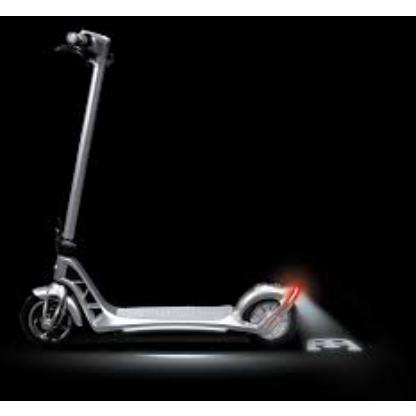bike: (17, 28, 311, 351)
